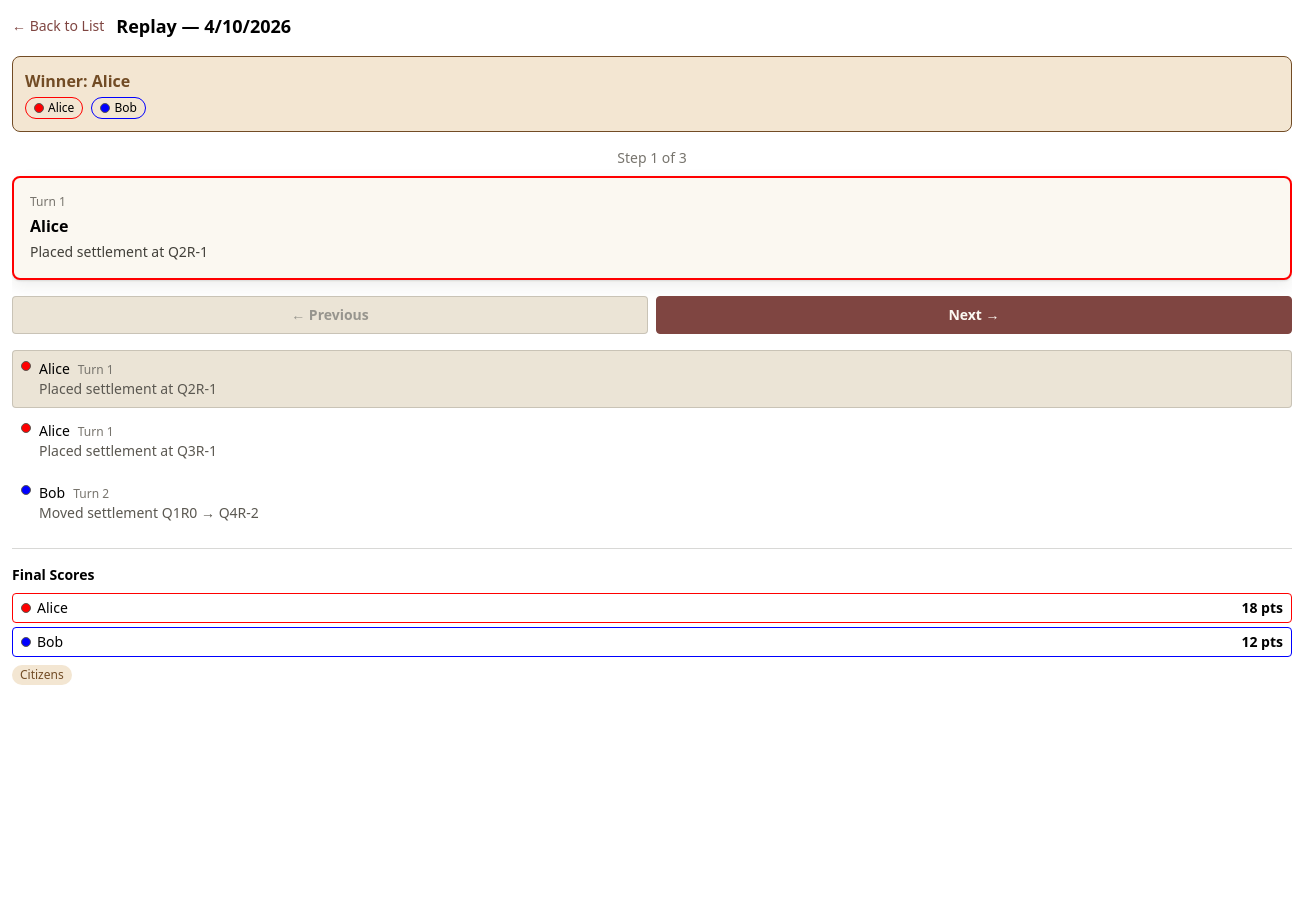
Scenario: ReplayViewer › clicking Next then Previous returns to step 1
The width and height of the screenshot is (1304, 912).
Click the button "Next →": {"x": 974, "y": 315} [656,296,1292,334]
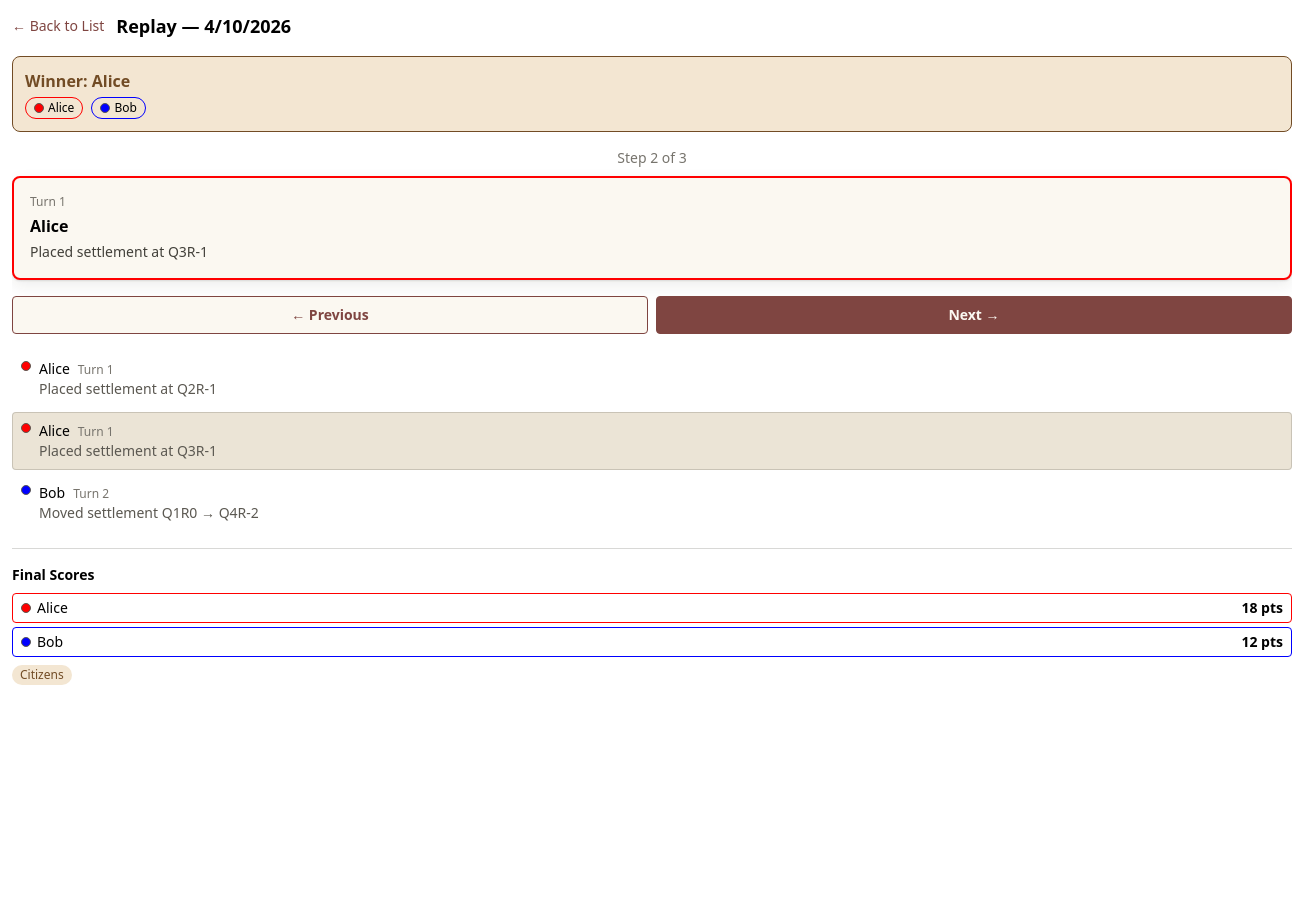
Click the button "← Previous": {"x": 330, "y": 315} [12,296,648,334]
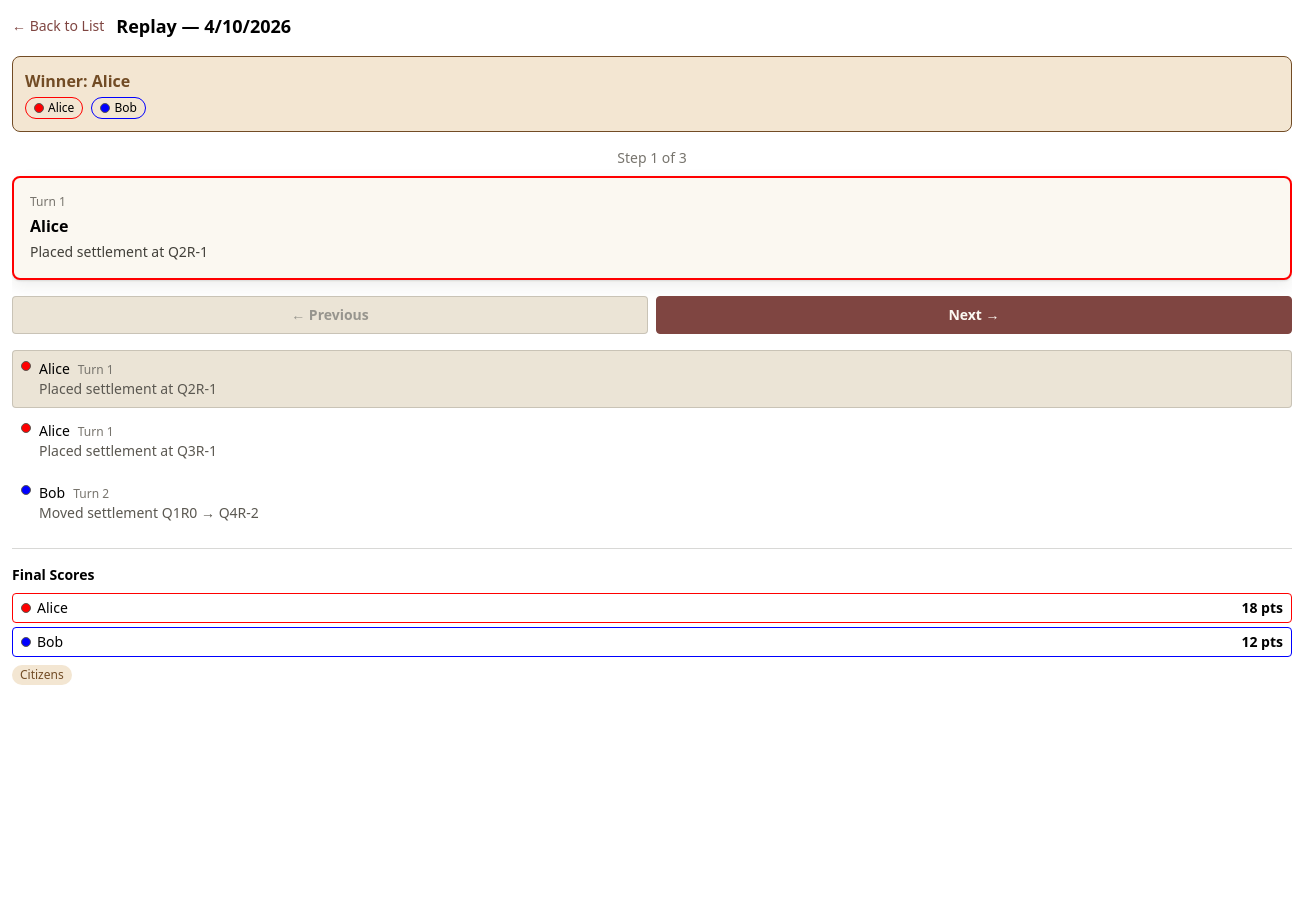
Check: the text "Step 1 of 3" is shown, box [617,148,687,167]
